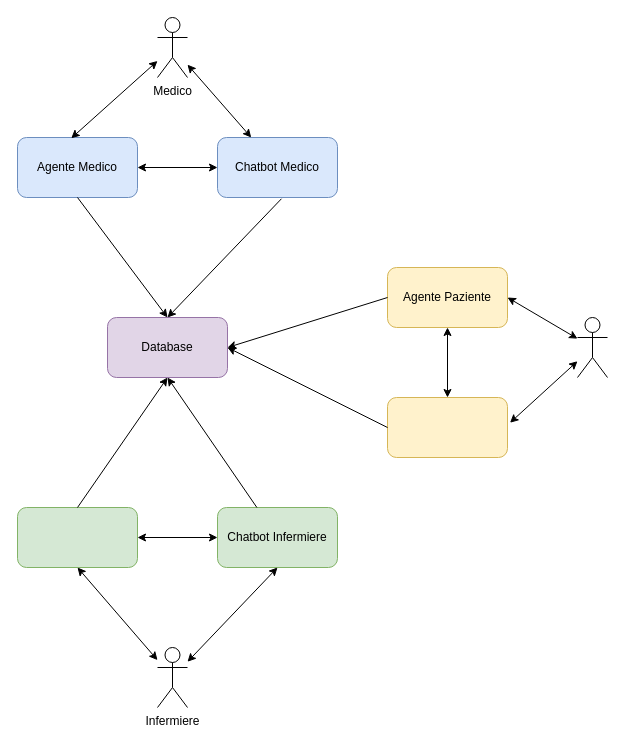
The diagram is 633 pixels wide and 746 high, and some of its shapes have lost their labels. Each missing label, with the centre of its shape:
Agente Infermiere: (x=77, y=537)
Chatbot Paziente: (x=447, y=427)
Paziente: (x=592, y=347)
